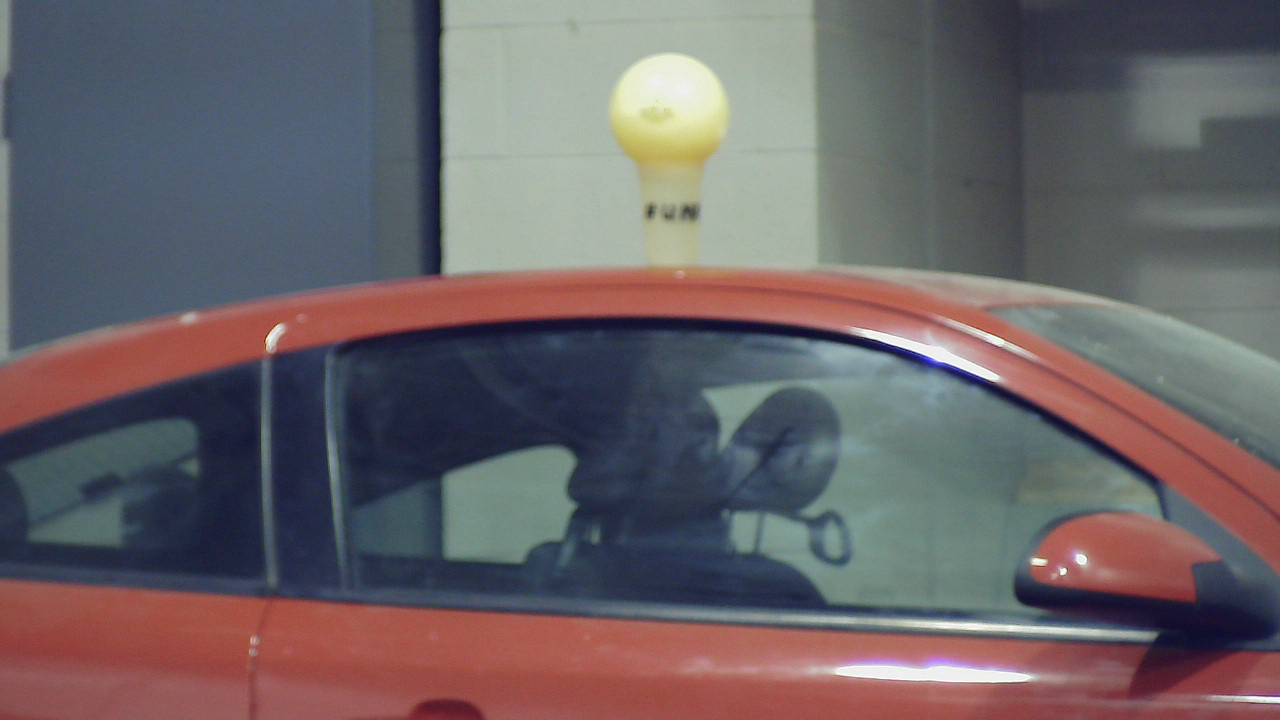yellowBall: (609, 56, 737, 169)
